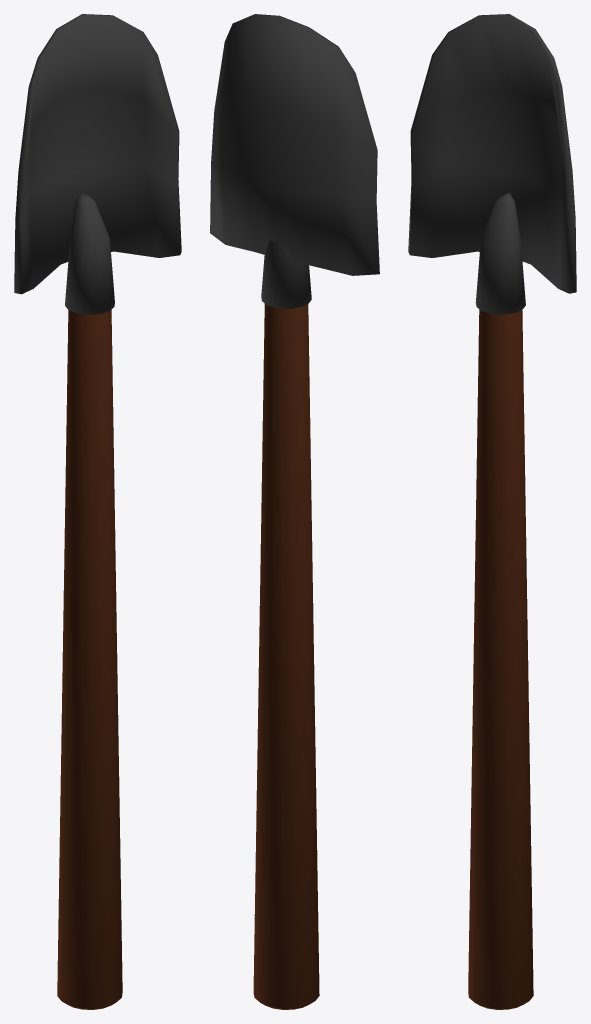
The picture shows the model from 3 angles, left to right: view 1: azimuth 30°, elevation 25°; view 2: azimuth 150°, elevation 25°; view 3: azimuth 330°, elevation 25°; orthographic projection.
Parts seen in each view (by area): view 1: Pa_Cabeca, Pa_Corpo; view 2: Pa_Corpo, Pa_Cabeca; view 3: Pa_Cabeca, Pa_Corpo.
Part boxes in pixels (x1,y1,x2,y2): Pa_Cabeca: (14, 14, 181, 314); Pa_Corpo: (57, 309, 122, 1009); Pa_Corpo: (253, 303, 319, 1009); Pa_Cabeca: (210, 14, 379, 308); Pa_Cabeca: (408, 14, 576, 314); Pa_Corpo: (468, 309, 533, 1009).
Bounding box in the file's own units: 28.23 × 157 × 9.6.
